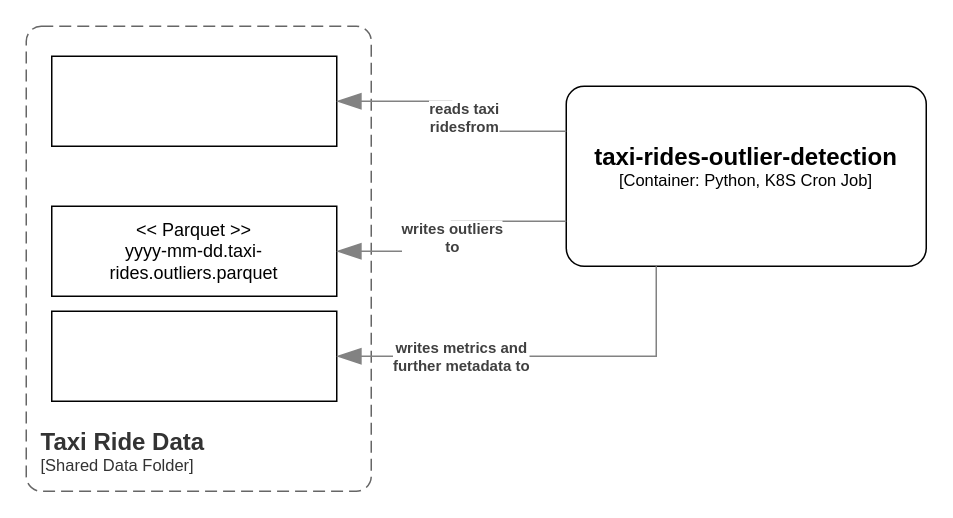
Image size: 953x518. Some labels were removed from this diagram. The shapes that lost their labels are listed below. From the top down, each one's centre as x and y in pixels, then its label:
At (193,100): "<< Parquet >> yyyy-mm-dd.taxi-rides.parquet".
At (193,355): "<< Json >> yyyy-mm-dd.taxi-rides.run-metadata.json".
